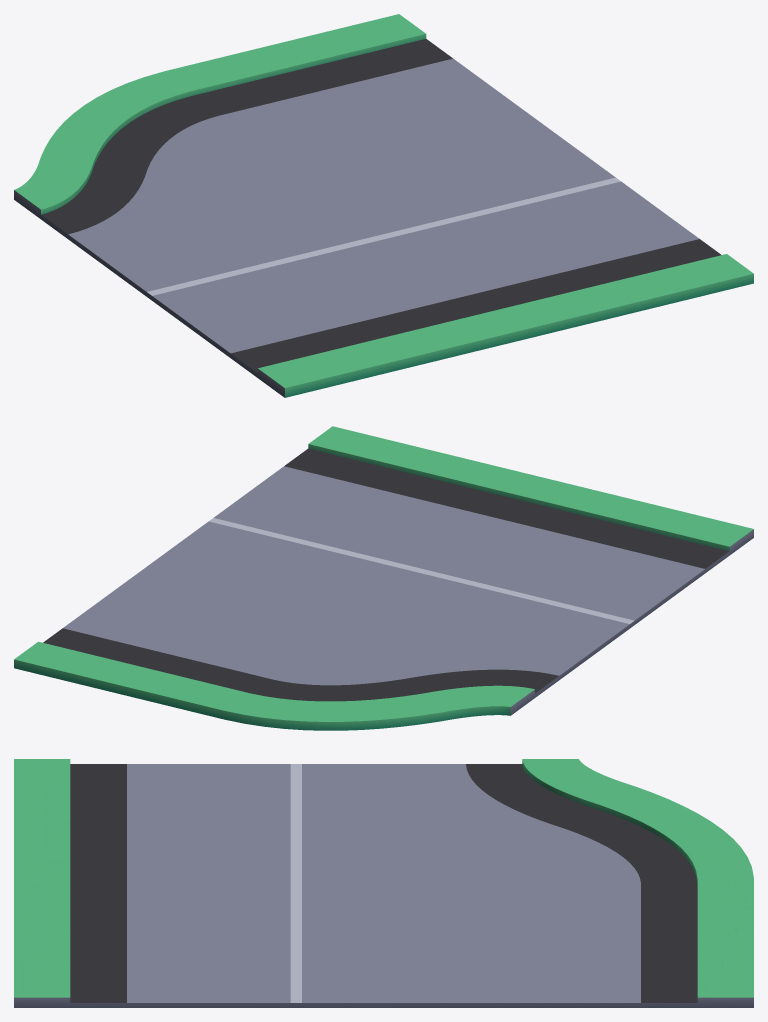
File: road_side_exit.glb
3 renders of one model, top to bottom at view 1: azimuth 30°, elevation 25°; view 2: azimuth 150°, elevation 25°; view 3: azimuth 270°, elevation 25°, orthographic. The views are drawn at different scales.
Parts seen in each view (by area): view 1: road-side-exit; view 2: road-side-exit; view 3: road-side-exit.
Part boxes in pixels (<box>): road-side-exit: <box>14,14,753,397</box>; road-side-exit: <box>14,426,753,730</box>; road-side-exit: <box>14,759,753,1007</box>.
Bounding box in the file's own units: 1 × 0.02 × 1.31.
Materials: 1 (1 with a texture image).
